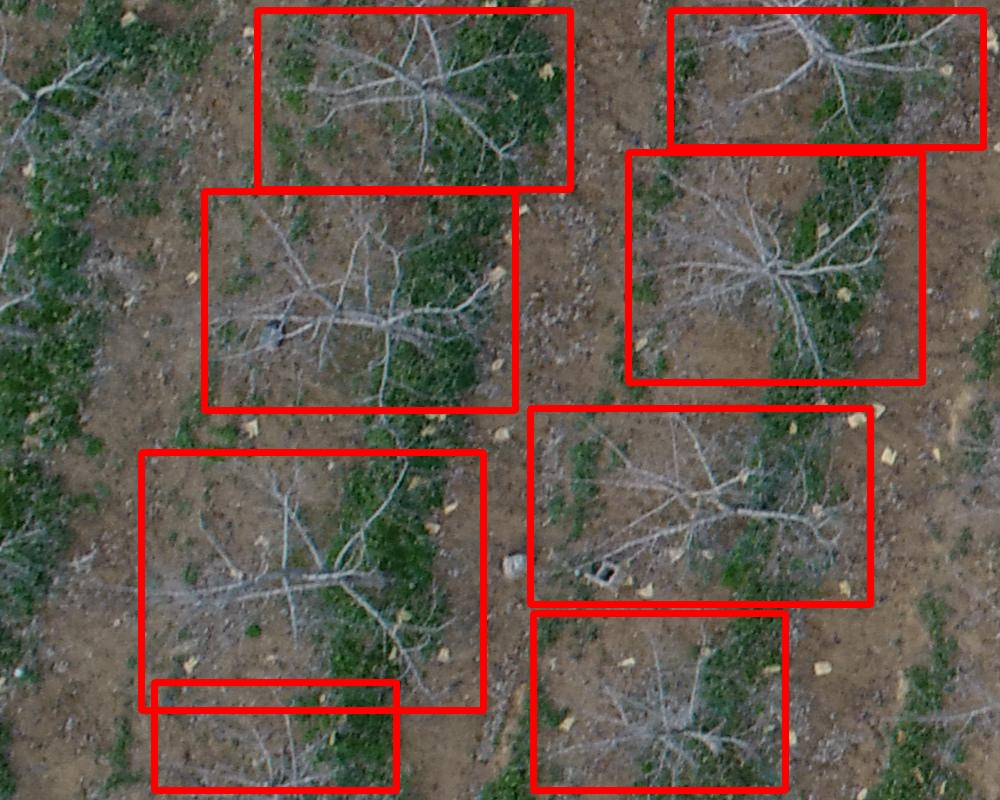apple: (141, 452, 483, 710), (204, 191, 515, 410), (628, 152, 922, 382), (530, 408, 870, 604), (257, 10, 570, 189), (533, 613, 785, 790), (670, 10, 983, 147), (154, 682, 396, 790)
